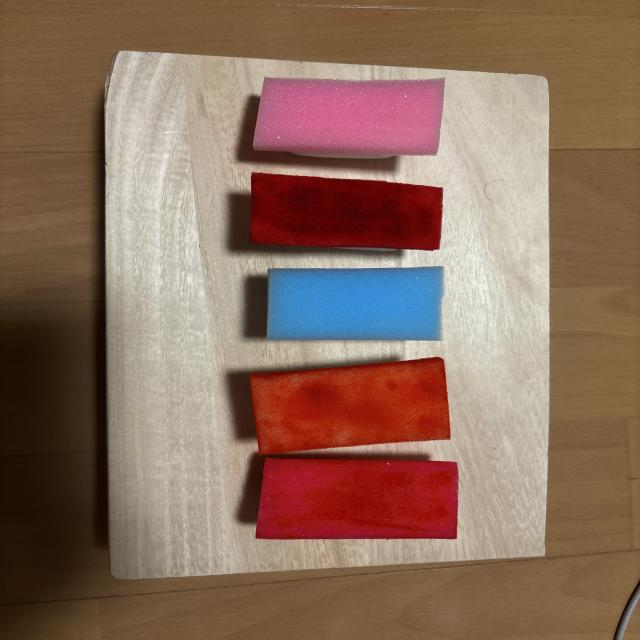ika: (267, 267, 443, 340)
maguro: (256, 458, 458, 539), (250, 173, 443, 250)
salmon: (250, 357, 450, 454)
tai: (253, 78, 445, 157)
